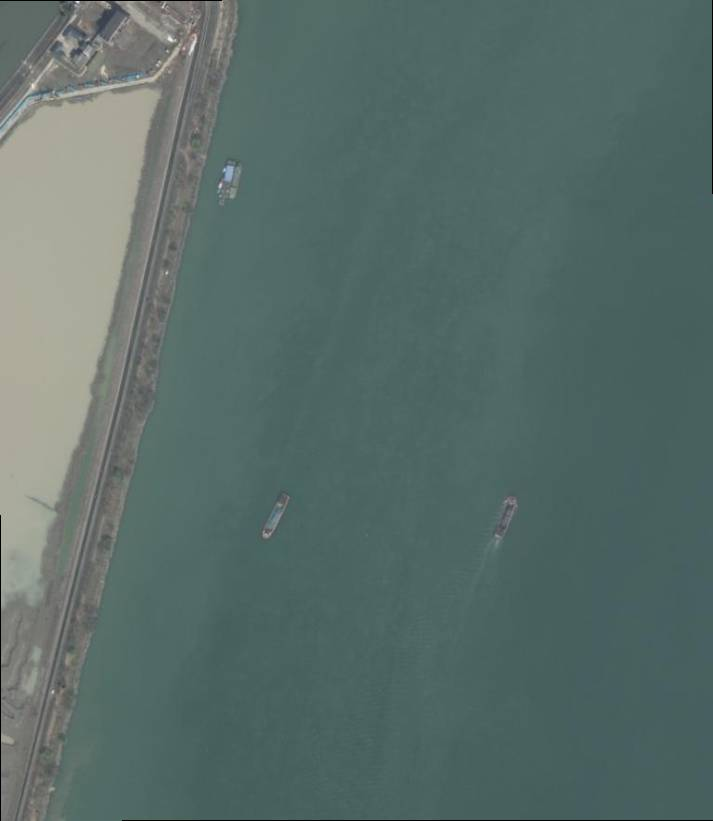ship: (261, 491, 292, 540), (493, 496, 519, 540), (217, 158, 238, 205), (229, 165, 243, 198)
